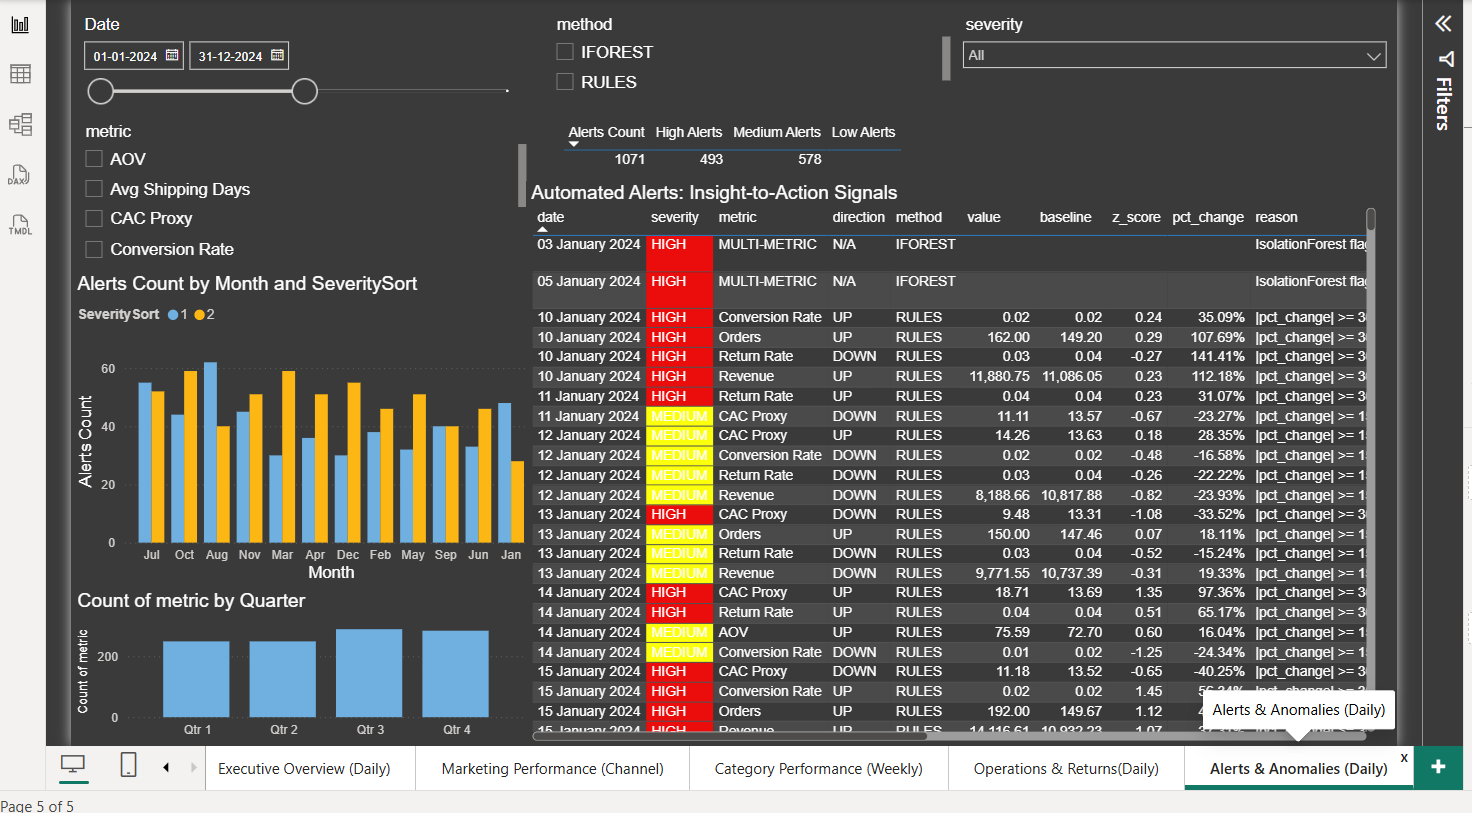

The dashboard page shown, as its layout file describes it:
{"tool":"powerbi","page":{"name":"Alerts & Anomalies (Daily)","canvas":[1280,720],"ordinal":4},"visuals":[{"type":"slicer","fields":{"Values":["DimDate2.Date"]},"box":[0,9.6,443.2,150.9],"z":0},{"type":"slicer","fields":{"Values":["alerts_daily_combined.severity"]},"box":[850.8,9.6,429.5,123.5],"z":1000},{"type":"slicer","fields":{"Values":["alerts_daily_combined.method"]},"box":[455.6,9.6,397.9,85.1],"z":2000},{"type":"slicer","fields":{"Values":["alerts_daily_combined.metric"]},"box":[1.4,113.9,443.2,149.6],"z":3000},{"type":"tableEx","fields":{"Values":["DimDate2.Alerts Count","DimDate2.High Alerts","DimDate2.Medium Alerts","DimDate2.Low Alerts"]},"box":[469.3,113.4,371.6,61.5],"z":4000},{"type":"clusteredColumnChart","fields":{"Category":["DimDate2.Month"],"Y":["DimDate2.Alerts Count"],"Series":["alerts_daily_combined.SeveritySort"]},"box":[1.4,263.5,454.2,303.3],"z":5000},{"type":"tableEx","title":"Automated Alerts: Insight-to-Action Signals","fields":{"Values":["alerts_daily_combined.date","alerts_daily_combined.severity","alerts_daily_combined.metric","alerts_daily_combined.direction","alerts_daily_combined.method","alerts_daily_combined.value","alerts_daily_combined.baseline","alerts_daily_combined.z_score","alerts_daily_combined.pct_change","alerts_daily_combined.reason","alerts_daily_combined.evidence"]},"box":[439.1,174.9,825.2,545.3],"z":6000},{"type":"columnChart","fields":{"Y":["CountNonNull(alerts_daily_combined.metric)"],"Category":["DimDate2.Date.Variation.Date Hierarchy.Quarter"]},"box":[1.4,569.5,443.2,150.9],"z":7000}]}

Visuals, with their boxes on the page's 1280x720 design canvas (x1, y1, x2, y2). These are canvas units, not pixel positions in the 1472x813 screenshot, which may show the page scaled, cropped or inside an application window:
slicer - DimDate2.Date: locate(0, 10, 443, 160)
slicer - alerts_daily_combined.severity: locate(851, 10, 1280, 133)
slicer - alerts_daily_combined.method: locate(456, 10, 854, 95)
slicer - alerts_daily_combined.metric: locate(1, 114, 445, 264)
tableEx - DimDate2.Alerts Count x DimDate2.High Alerts: locate(469, 113, 841, 175)
clusteredColumnChart - DimDate2.Month x DimDate2.Alerts Count: locate(1, 264, 456, 567)
"Automated Alerts: Insight-to-Action Signals" tableEx: locate(439, 175, 1264, 720)
columnChart - CountNonNull(alerts_daily_combined.metric) x DimDate2.Date.Variation.Date Hierarchy.Quarter: locate(1, 570, 445, 720)
